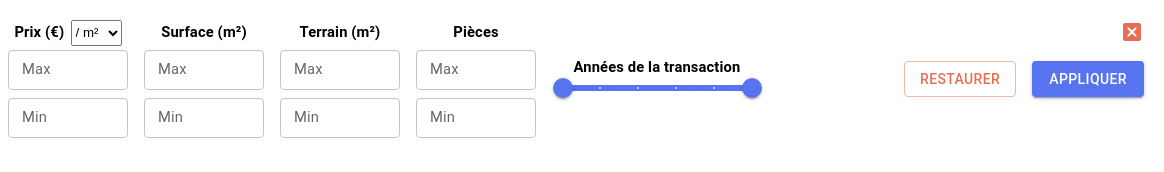
<SearchFilterForm/> › Replaces min value with 0 and submit minValue = '' if submitting with min > max
Type "6" into the 7th number field at (340, 118), box x1=280 y1=98 x2=400 y2=138
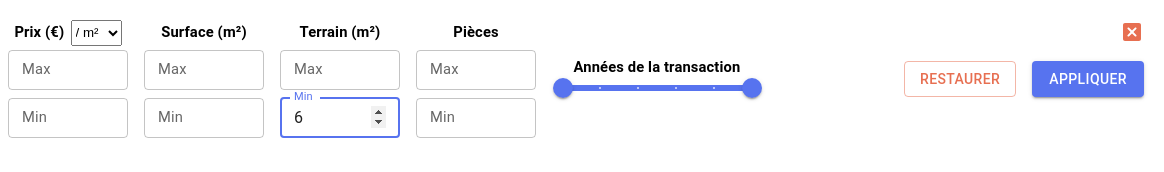
Type "5" into the 3rd number field at (340, 70), box x1=280 y1=50 x2=400 y2=90
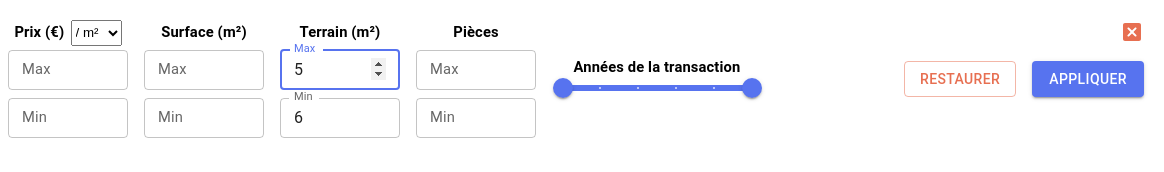
Click the button with test id "submit" at (1088, 80), box x1=1032 y1=61 x2=1144 y2=98
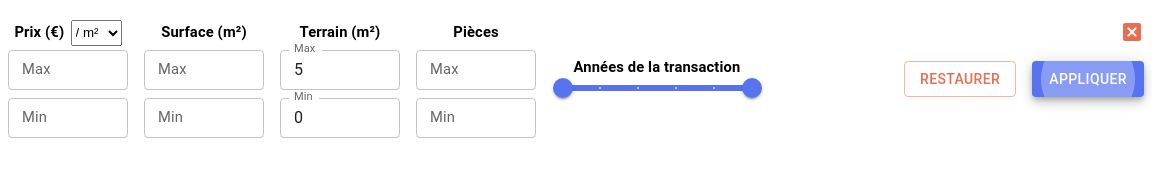
Now the 7th number field holds "0", box x1=280 y1=98 x2=400 y2=138
